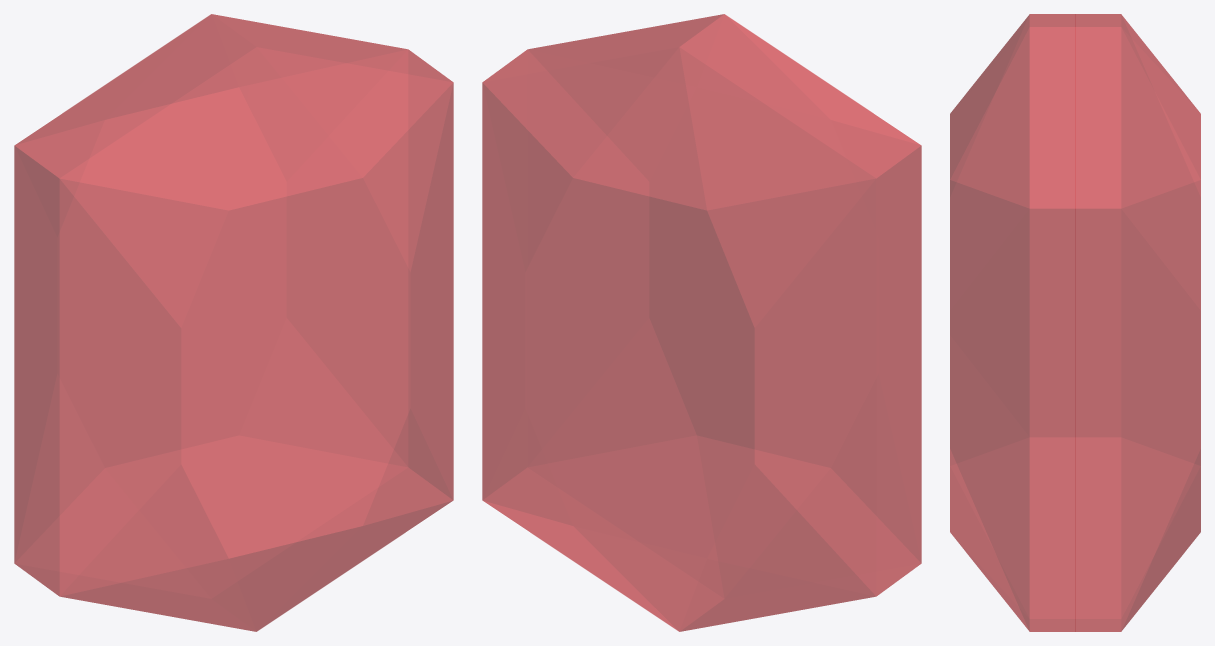
Rendered from gem.glb.
3 renders of one model, left to right at view 1: azimuth 30°, elevation 25°; view 2: azimuth 150°, elevation 25°; view 3: azimuth 270°, elevation 25°, orthographic.
Parts seen in each view (by area): view 1: 立方体; view 2: 立方体; view 3: 立方体.
Part boxes in pixels (x1=…): 立方体: x1=14, y1=14, x2=453, y2=631; 立方体: x1=482, y1=14, x2=921, y2=631; 立方体: x1=950, y1=14, x2=1200, y2=631.
Size of the model in its own units: 1.49 by 2.12 by 0.8125.
